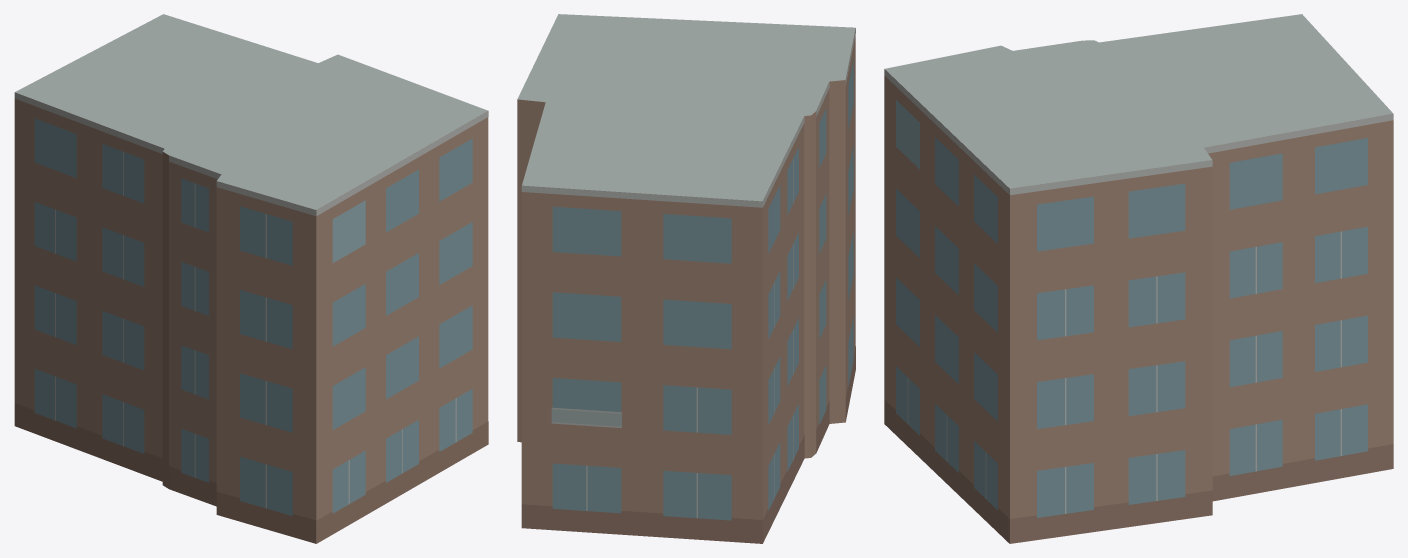
Rendered from survey-upis-32767133.glb.
3 views of the same model, side by side, from view 1: azimuth 30°, elevation 25°; view 2: azimuth 150°, elevation 25°; view 3: azimuth 270°, elevation 25° (orthographic). The views are drawn at different scales.
Visible parts, largest first — view 1: survey-upis-32767133.tmp; view 2: survey-upis-32767133.tmp; view 3: survey-upis-32767133.tmp.
Boxes of the visible parts, left/top/right/bottom form: survey-upis-32767133.tmp: left=14, top=14, right=488, bottom=543; survey-upis-32767133.tmp: left=517, top=14, right=855, bottom=543; survey-upis-32767133.tmp: left=884, top=14, right=1393, bottom=543.
Bounding box in the file's own units: 13.93 × 13.2 × 17.16.
